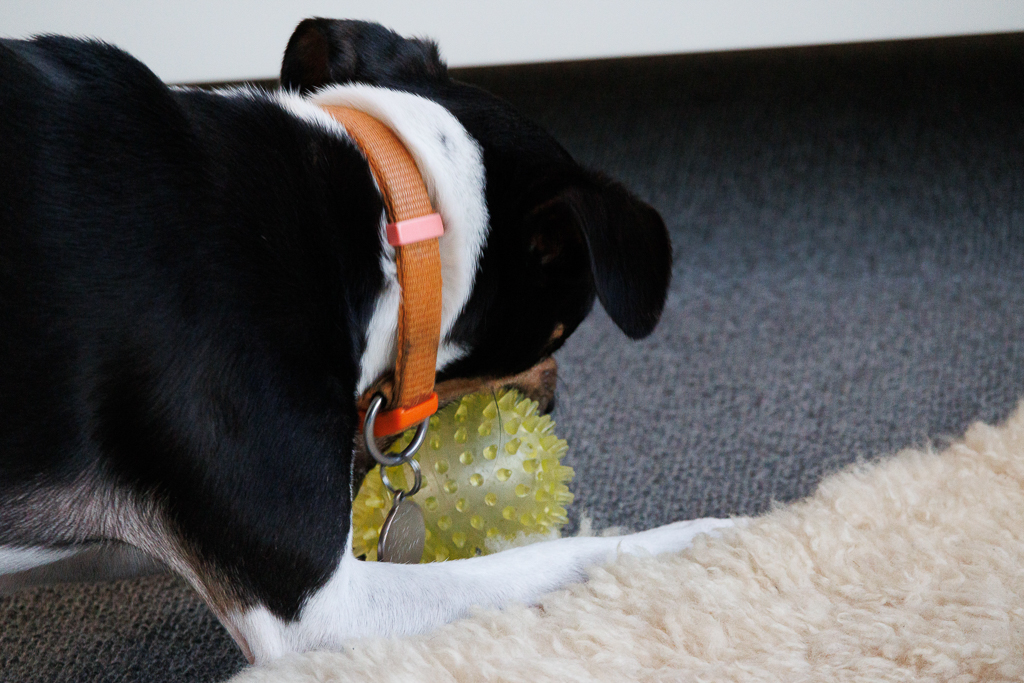Dog: (0, 11, 769, 674)
